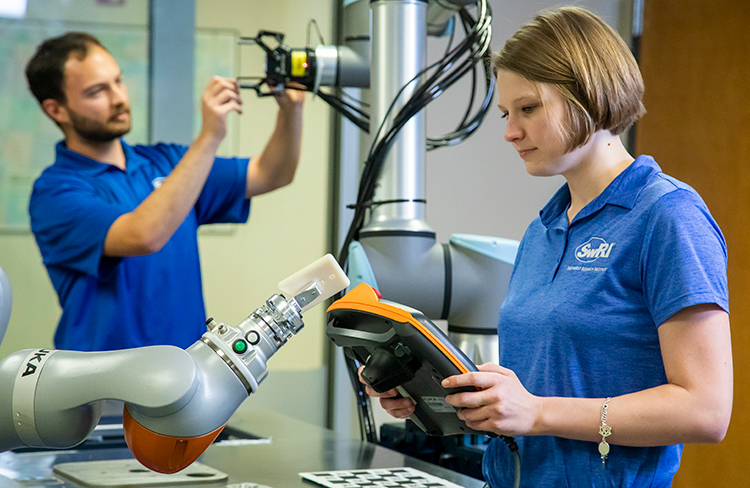person: (443, 6, 735, 488), (26, 31, 305, 349)
robot: (1, 280, 322, 475)
